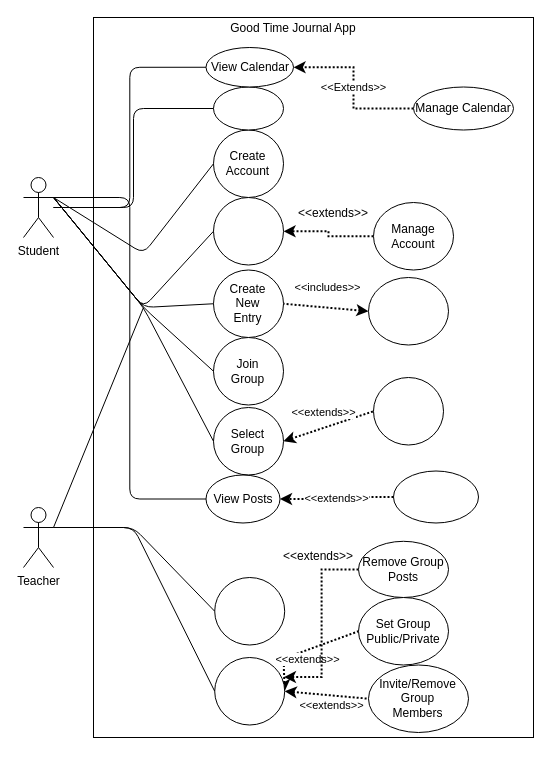
Image size: 551x768. Some labels were removed from this diagram. Each missing label, with the centre of its shape:
"Create Group" belongs at (249,610).
"Edit Posts" belongs at (435,496).
"Login" belongs at (248,230).
"Manage Group" belongs at (249,690).
"Search" belongs at (248,108).
"Set Entry Public/Private" belongs at (408,310).
"View Group Posts" belongs at (408,410).
